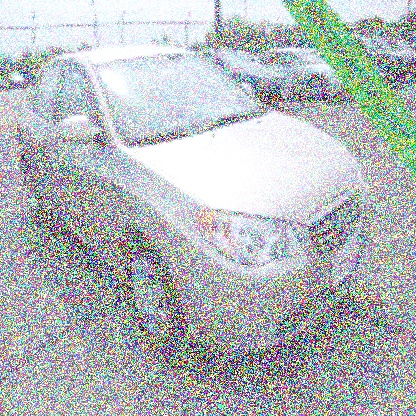Vehicle: (16, 40, 377, 363)
